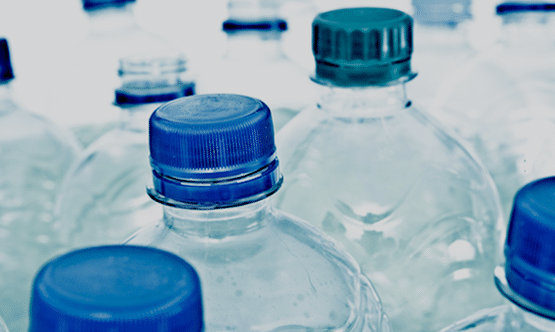plastic water bottle: (258, 5, 510, 320), (93, 88, 387, 332)
